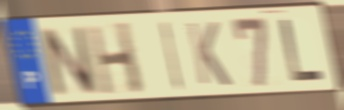7: (229, 15, 272, 89)
H: (85, 20, 147, 97)
I: (159, 19, 185, 93)
K: (184, 20, 234, 88)
L: (277, 17, 327, 84)
N: (36, 24, 102, 98)
